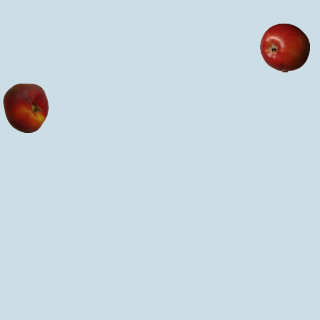Apple Braeburn: (259, 22, 309, 72)
Nectarine Flat: (0, 82, 50, 132)
